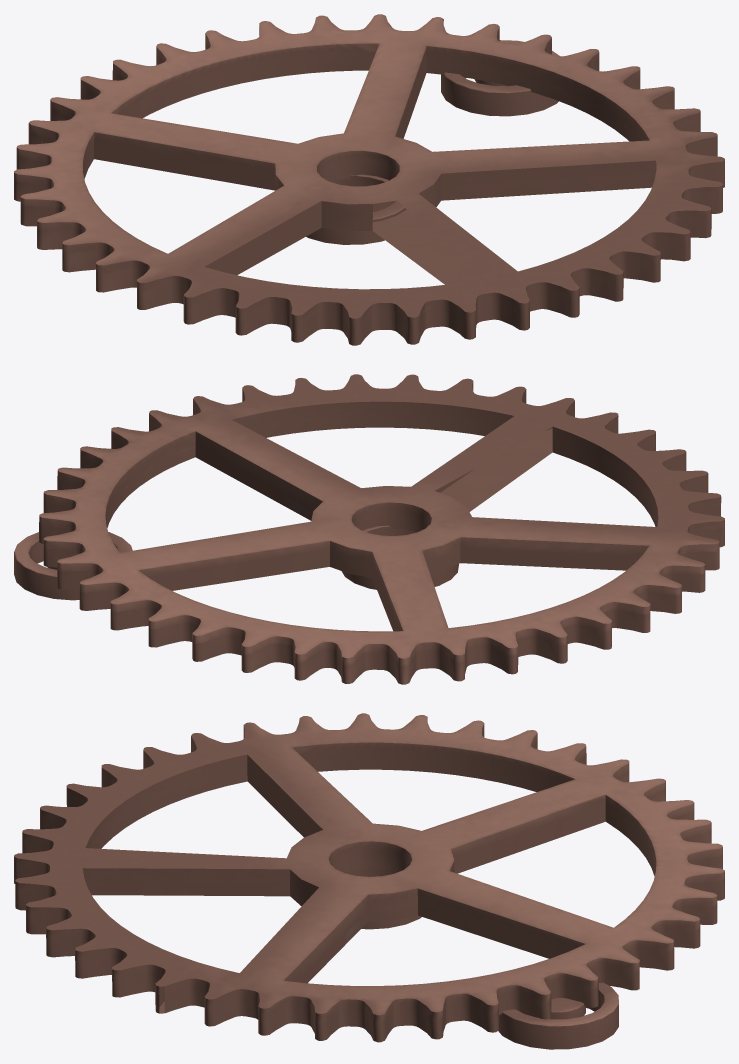
File: relojengrane3.obj
3 views of the same model, one above another, from view 1: azimuth 30°, elevation 25°; view 2: azimuth 150°, elevation 25°; view 3: azimuth 270°, elevation 25° (orthographic). The views are drawn at different scales.
Parts seen in each view (by area): view 1: Part_003_part_03_0.001; view 2: Part_003_part_03_0.001; view 3: Part_003_part_03_0.001.
Part boxes in pixels (left/top/right/bottom): Part_003_part_03_0.001: left=14, top=14, right=724, bottom=345; Part_003_part_03_0.001: left=14, top=374, right=724, bottom=684; Part_003_part_03_0.001: left=14, top=713, right=724, bottom=1049.
Bounding box in the file's own units: 1.95 × 0.1491 × 1.94.
